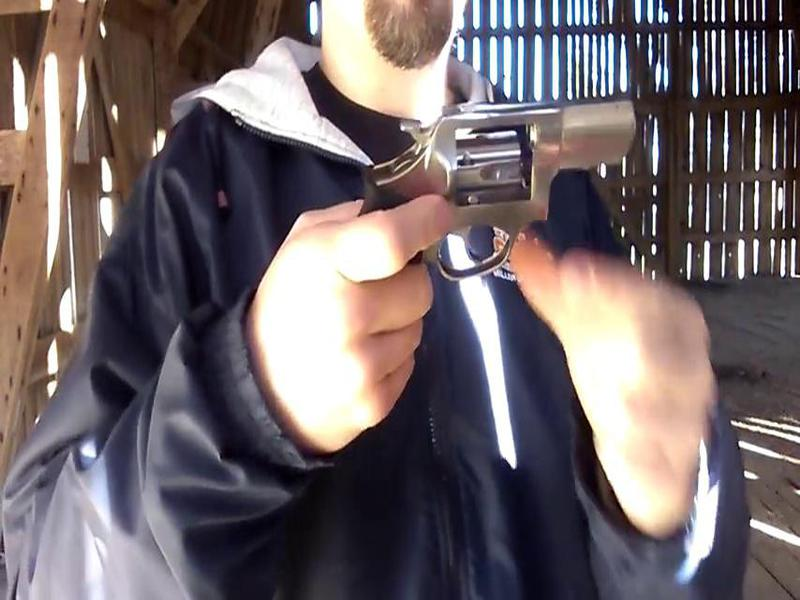Revolver: (349, 51, 662, 296)
